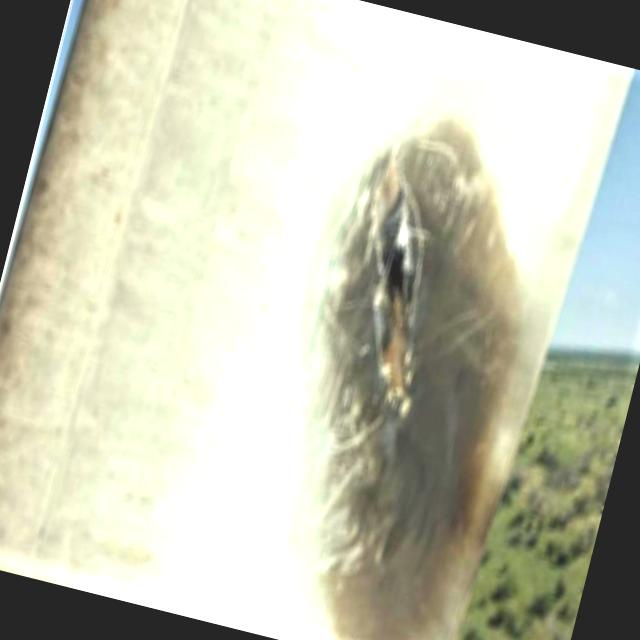crack: (241, 93, 576, 640)
